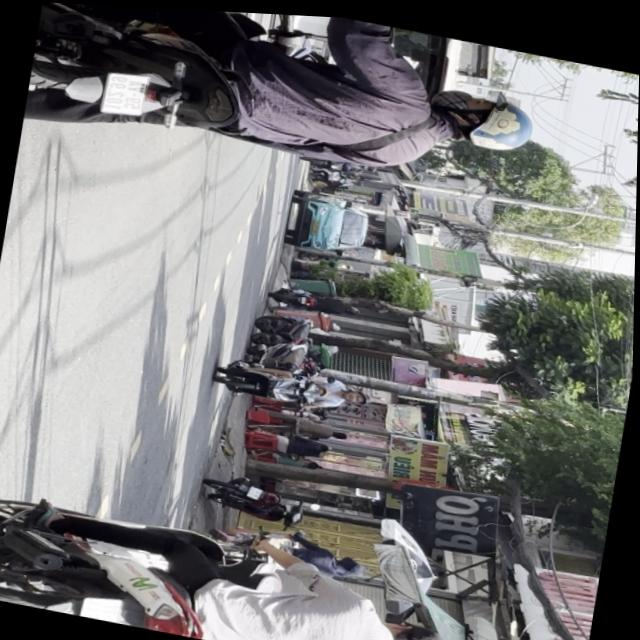helmet: (433, 81, 539, 154), (341, 385, 376, 404)
licenseplate: (21, 1, 553, 216), (0, 479, 461, 640), (213, 352, 377, 417)
motorcyclist: (378, 612, 451, 640)
nohelmet: (102, 70, 149, 118), (83, 594, 125, 622)
